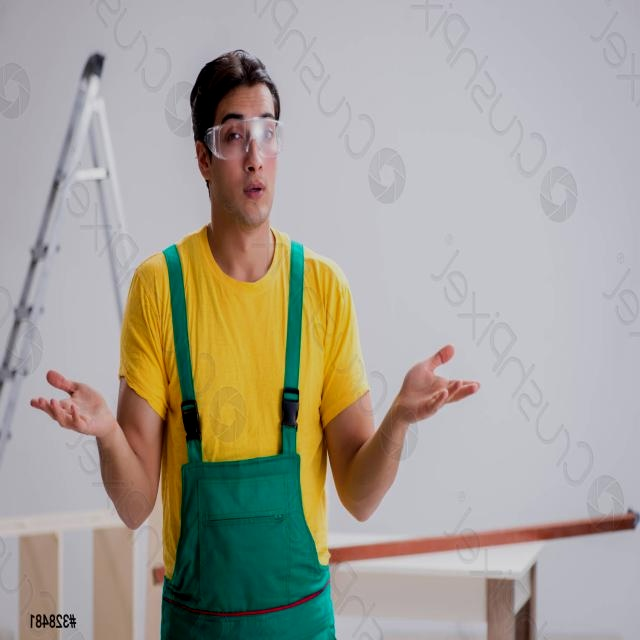goggles: (353, 118, 438, 162)
